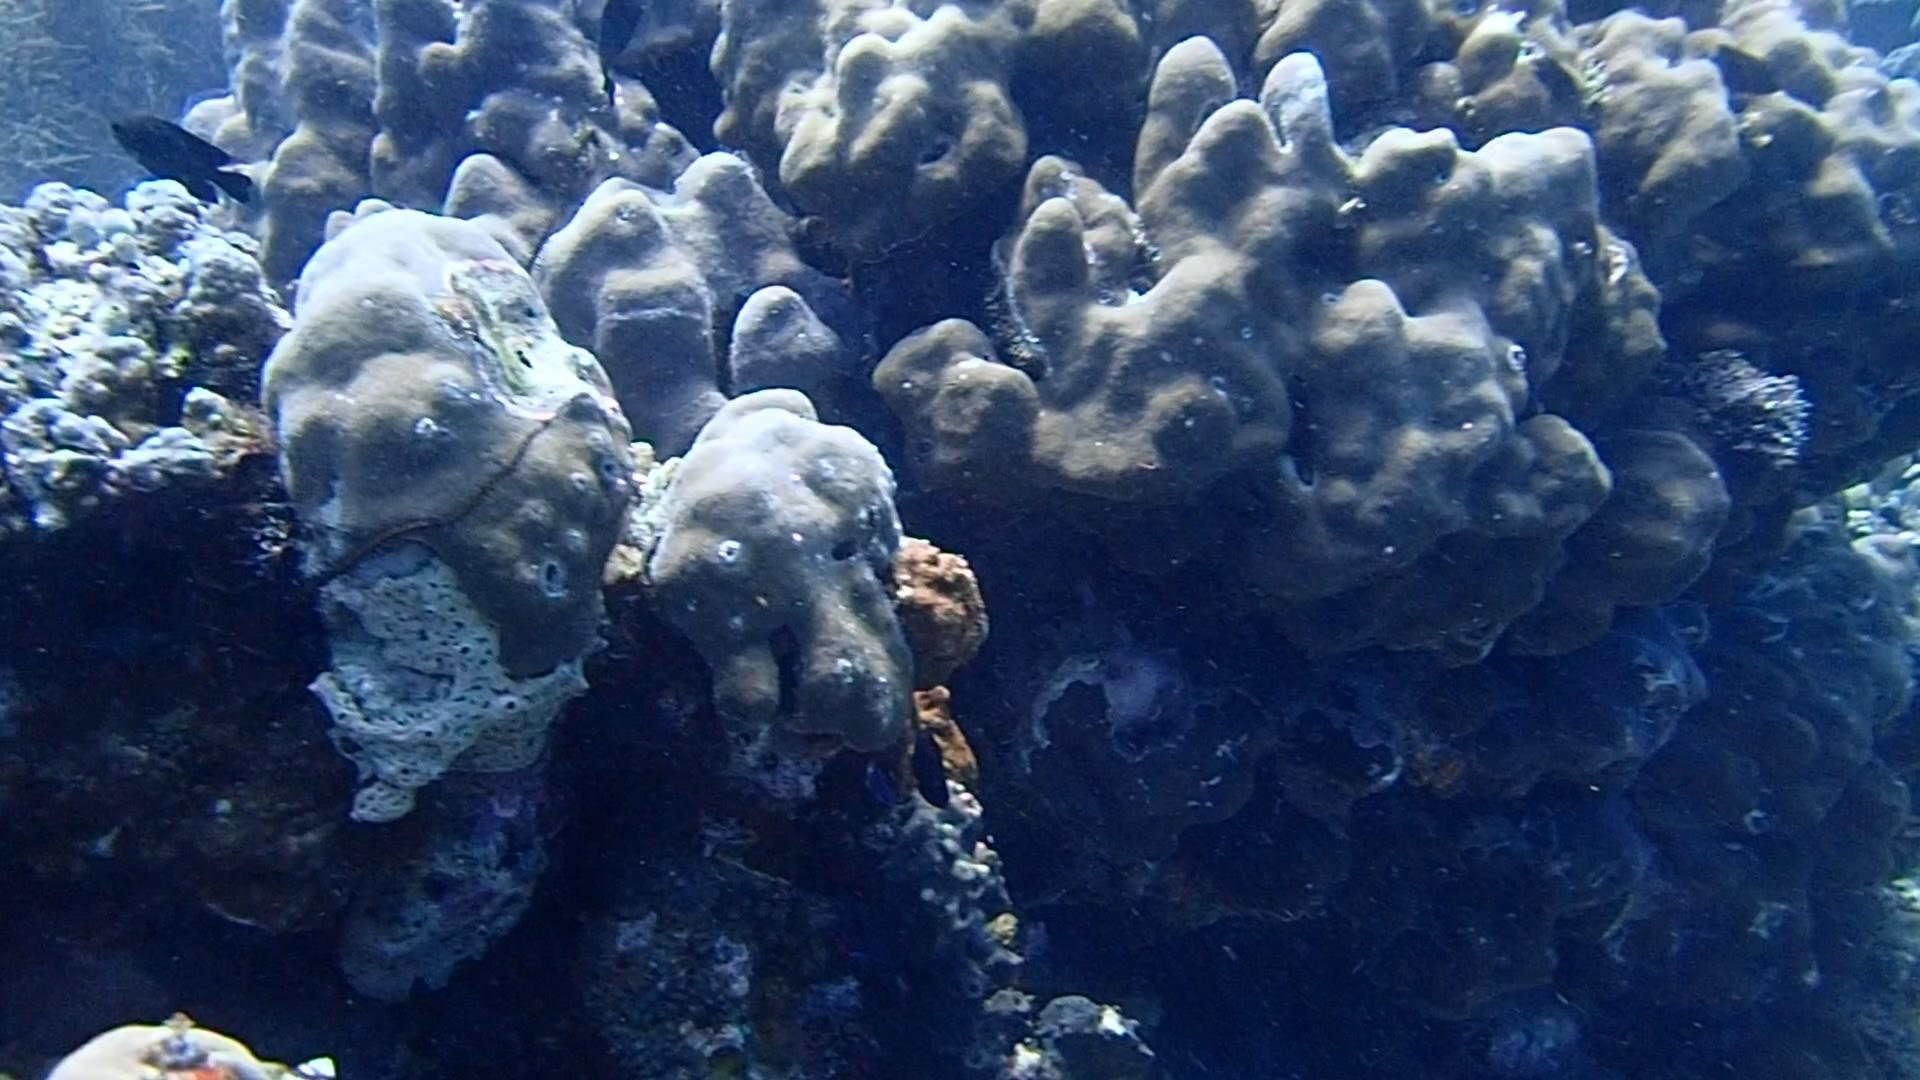Dark Fish: (100, 98, 269, 224), (891, 707, 972, 818), (1697, 34, 1799, 103), (1522, 50, 1588, 109)
